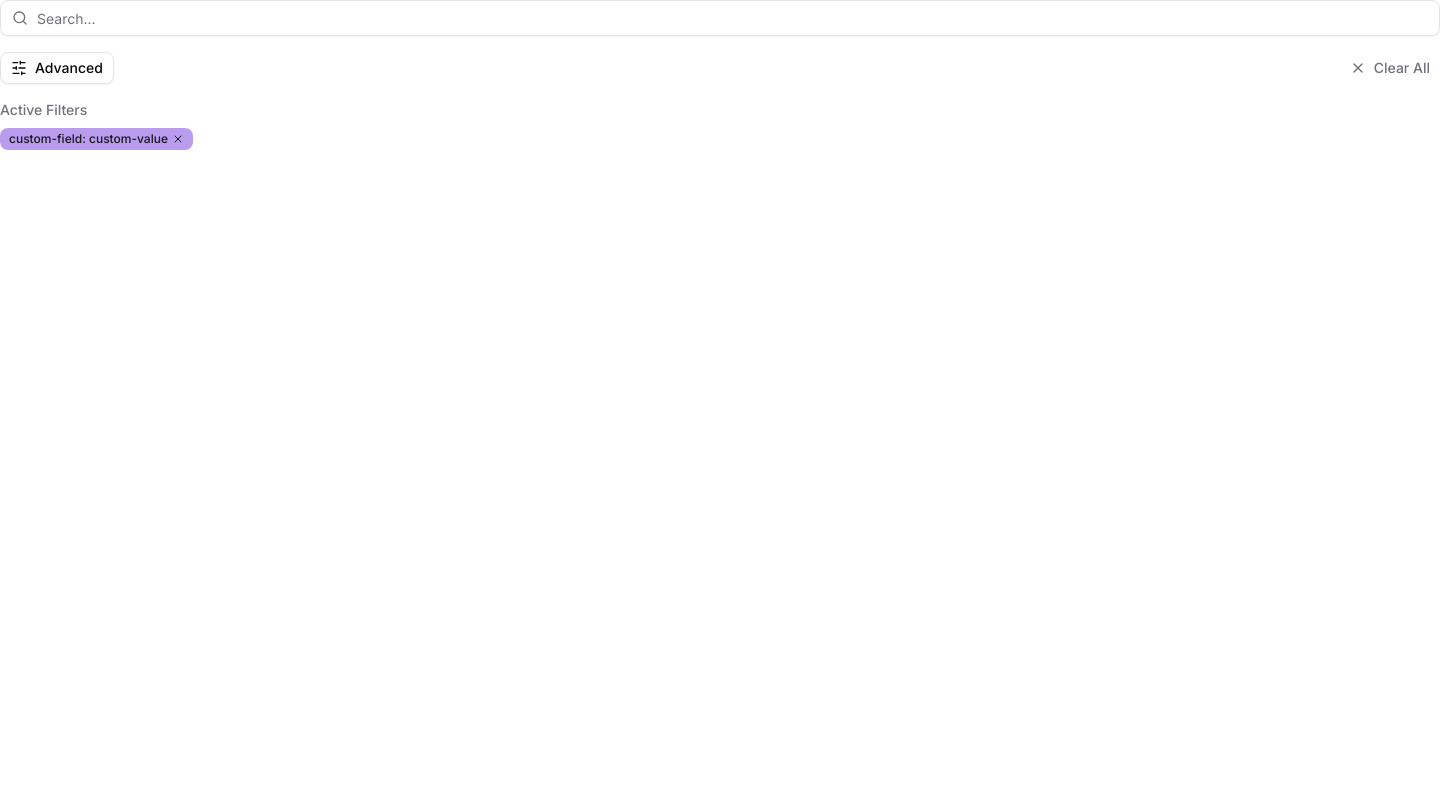
Test: FilterControls › disables Add Filter button when fields are empty
Click the button "Advanced": {"x": 57, "y": 68} [0,52,114,84]
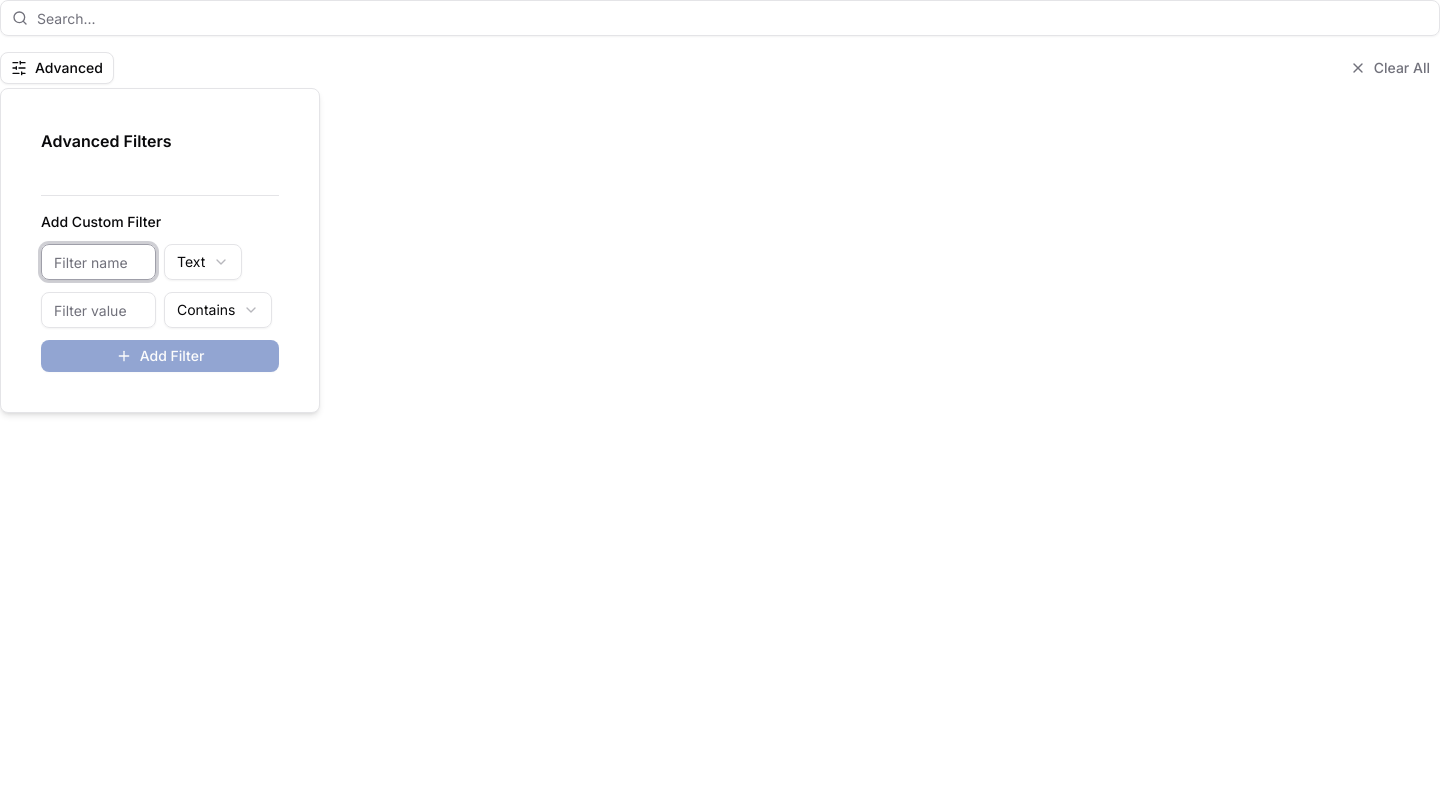
Check: the button "Add Filter" is disabled, box [41,340,279,372]
Fill in name only
In the field with placeholder "Filter name": {"x": 98, "y": 262} [41,244,156,280], type "test"
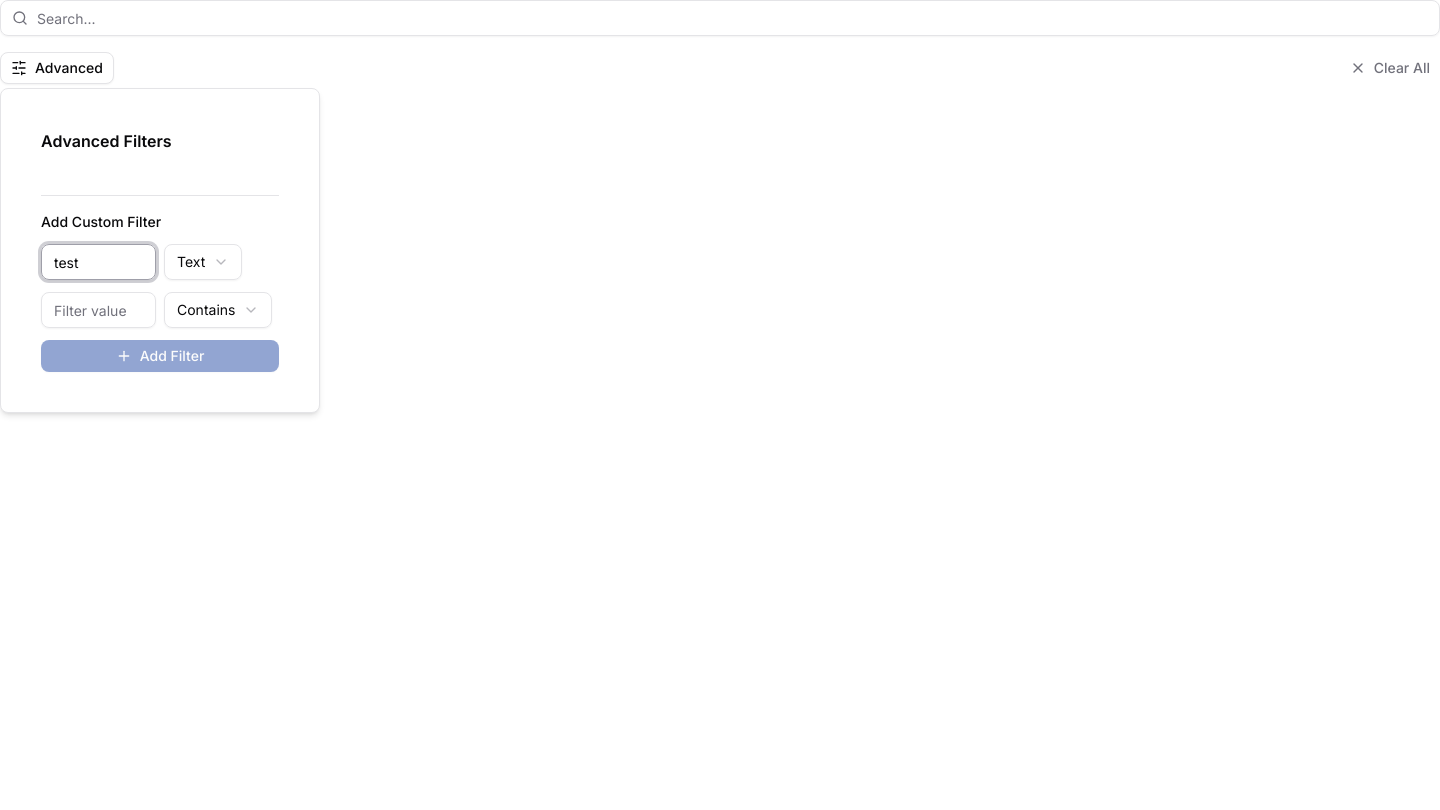
Check: the button "Add Filter" is disabled, box [41,340,279,372]
Fill in value
In the field with placeholder "Filter value": {"x": 98, "y": 310} [41,292,156,328], type "value"
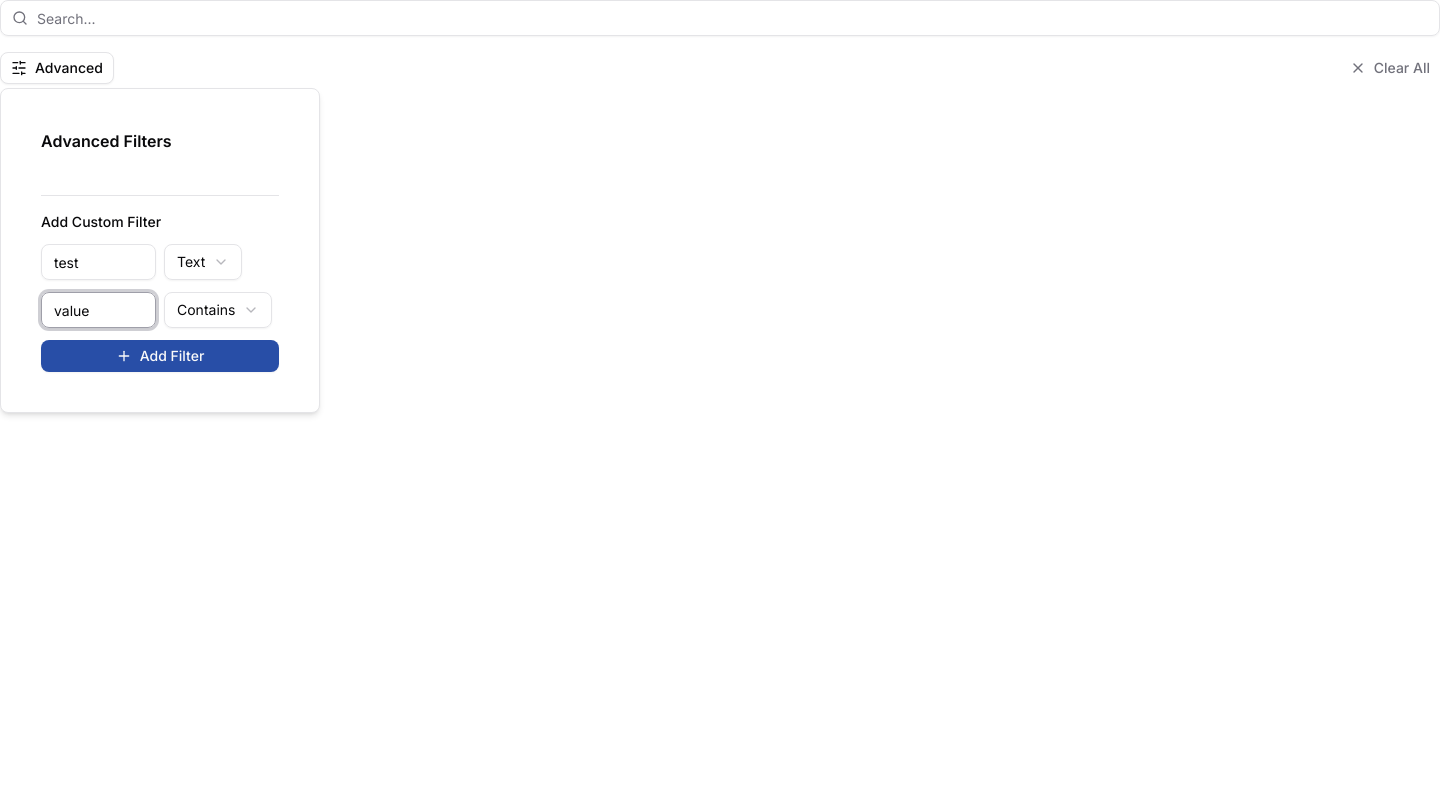
Check: the button "Add Filter" is enabled, box [41,340,279,372]
